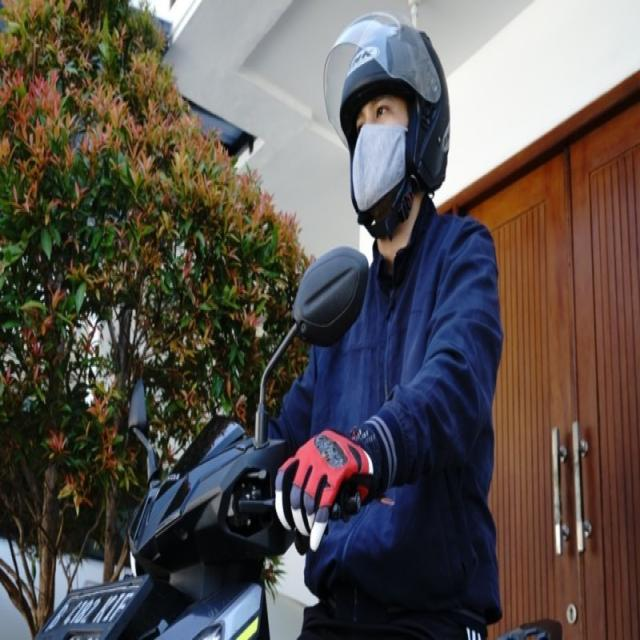Helm: (320, 9, 450, 234)
